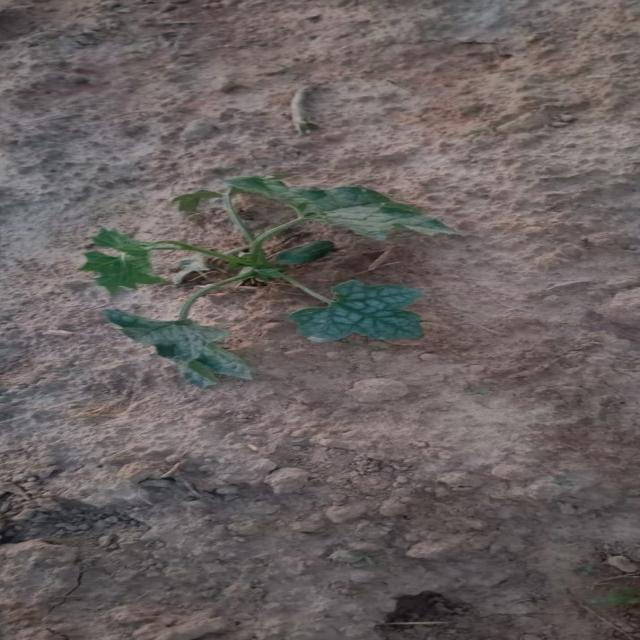plant: (81, 176, 457, 387)
